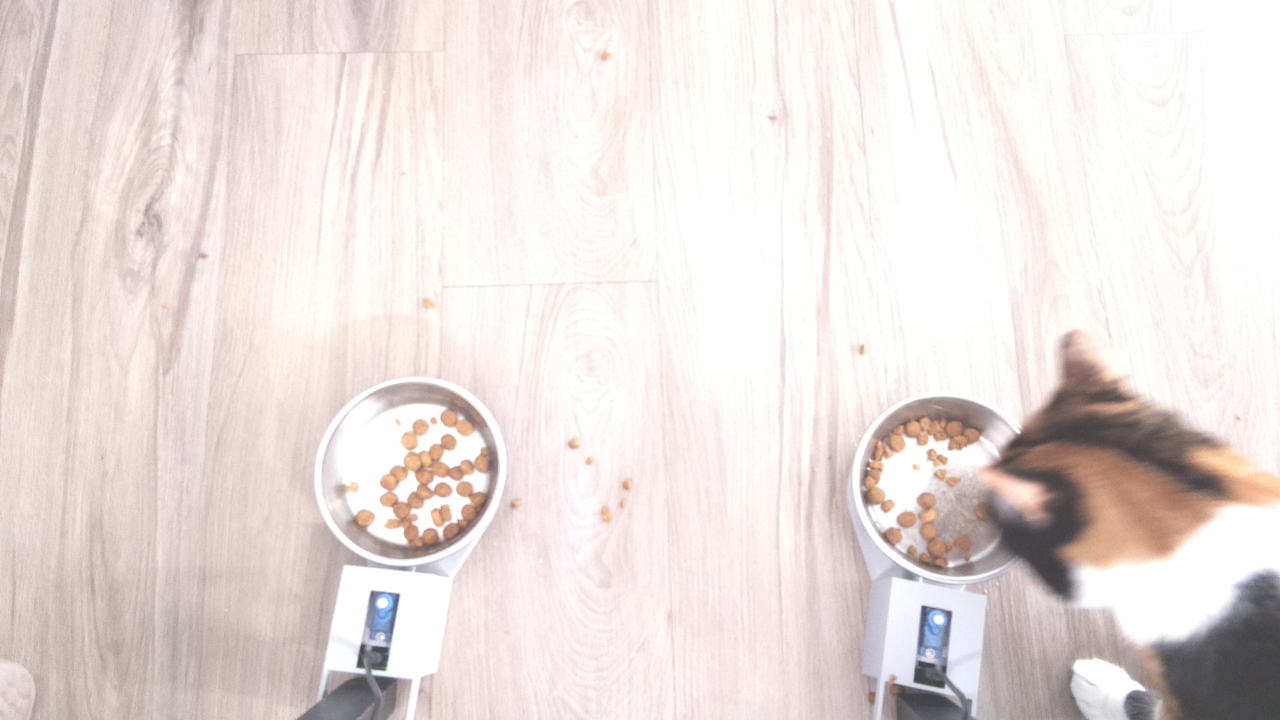bella: (977, 323, 1280, 631)
open_bowl: (308, 371, 511, 570), (850, 389, 997, 584)
